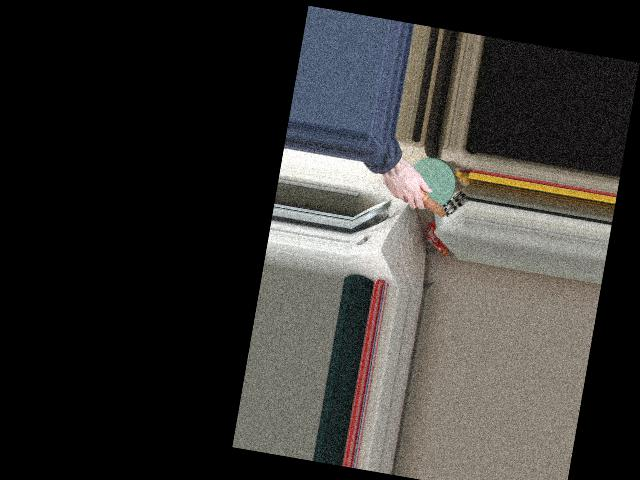sweet_potato: (392, 171, 449, 218)
